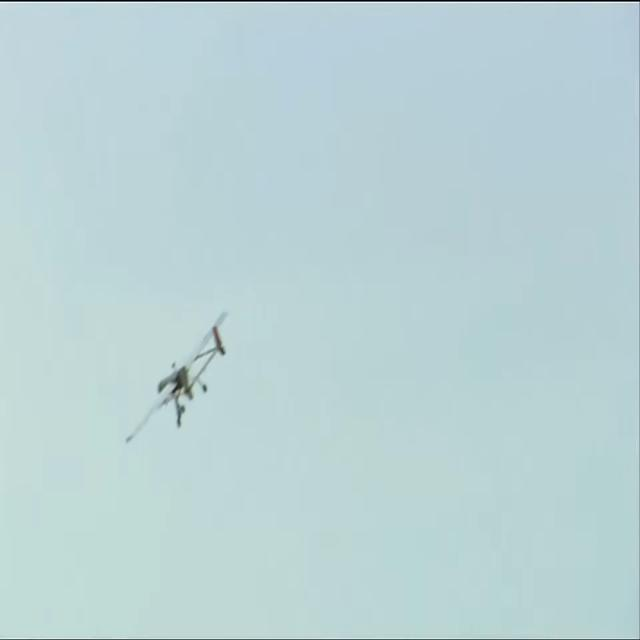iha: (156, 312, 198, 443)
